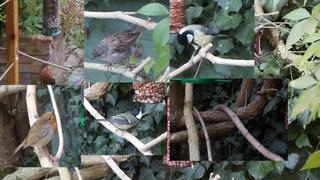dunnock: (90, 24, 146, 73)
great tit: (177, 24, 230, 65), (93, 106, 143, 136)
robin: (11, 109, 57, 159)
